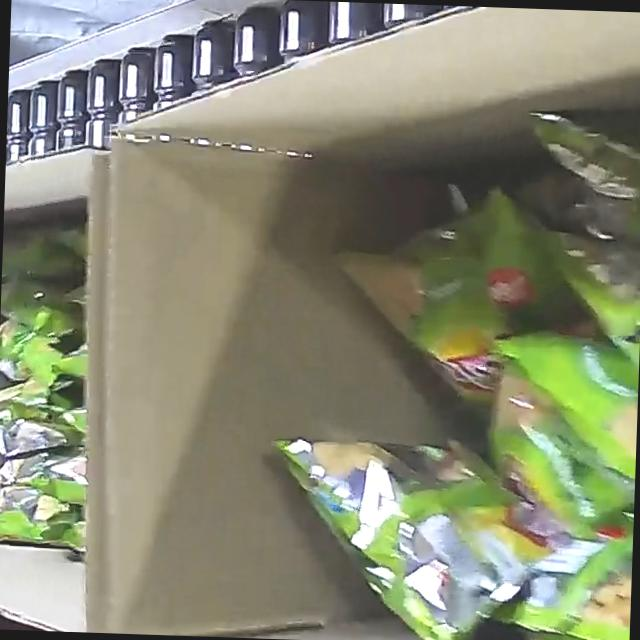yogurt: (263, 16, 640, 640), (0, 210, 120, 589)
